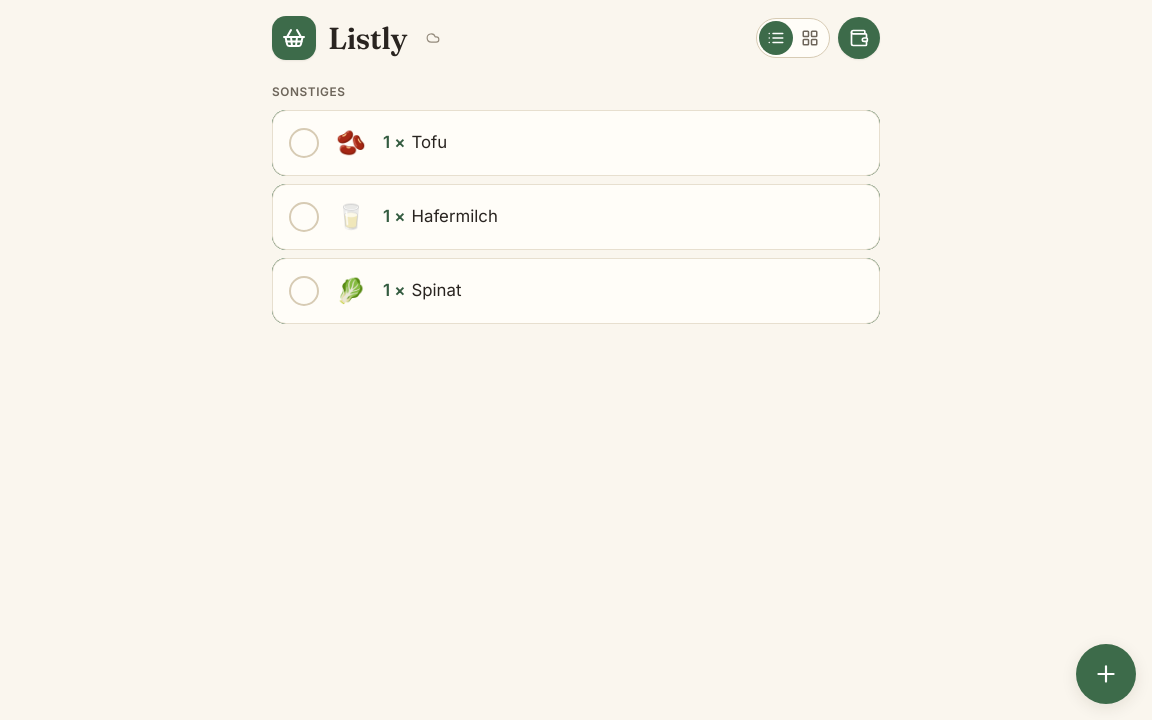
it: App – nur betroffene Zeilen rendern neu › rendert beim Öffnen des Hinzufügen-Sheets keine Zeile neu
The width and height of the screenshot is (1152, 720).
Click the button named "Artikel hinzufügen" at coordinates (1106, 674), box [1076,644,1136,704]
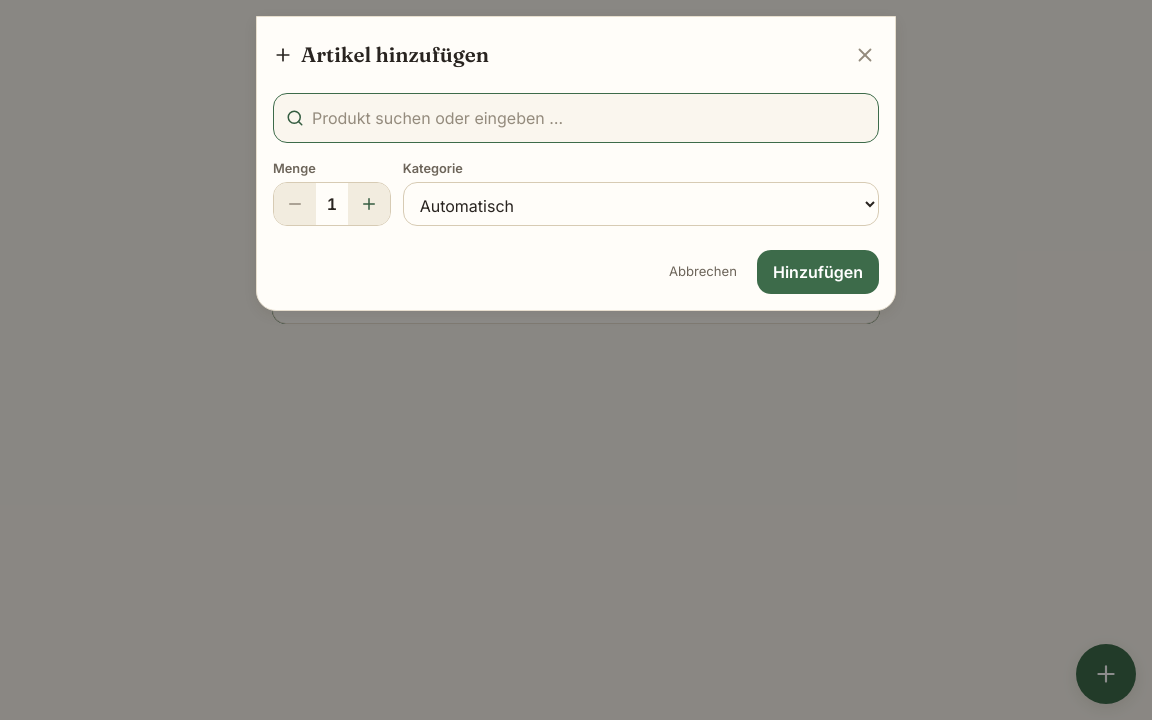
Check: the dialog is shown, box [256,16,896,311]
